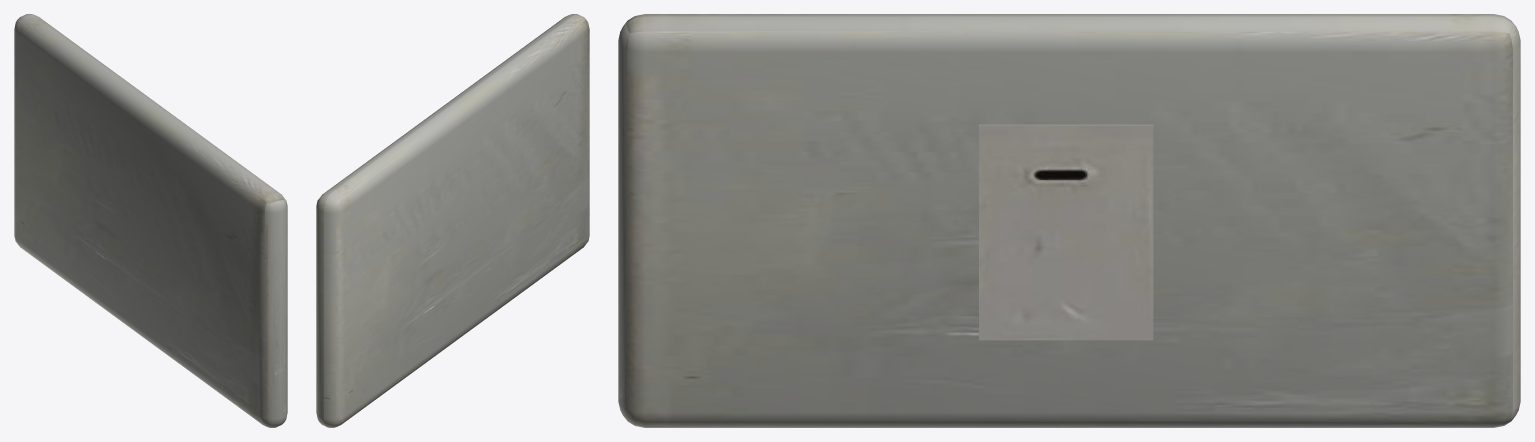
File: LightButton.fbx
3 renders of one model, left to right at view 1: azimuth 30°, elevation 25°; view 2: azimuth 150°, elevation 25°; view 3: azimuth 270°, elevation 25°, orthographic. The views are drawn at different scales.
Visible parts, largest first — view 1: Cube.007; view 2: Cube.007; view 3: Cube.007, Cube.008.
Part boxes in pixels (bbox=[...]): Cube.007: bbox=[14, 14, 287, 427]; Cube.007: bbox=[316, 14, 589, 427]; Cube.007: bbox=[618, 14, 1520, 427]; Cube.008: bbox=[979, 124, 1153, 340].
Bounding box in the file's own units: 2.01 × 10 × 20.
2 materials, 2 textured.
